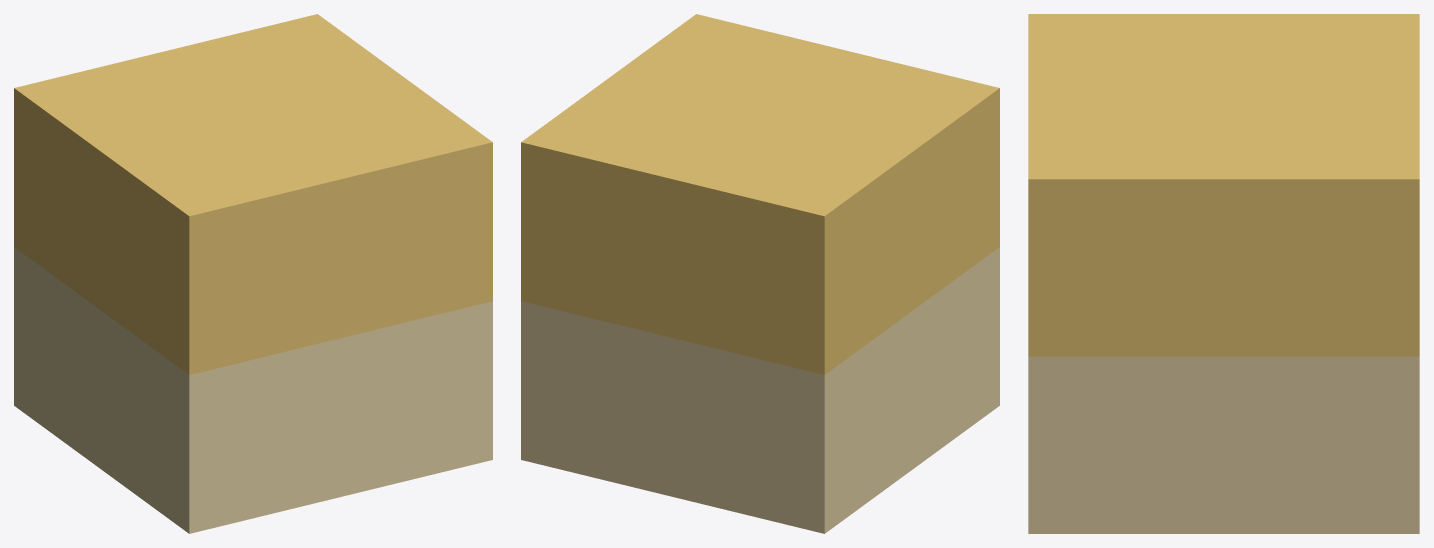
File: GeologischeAbfolgeBeispiel.gltf
3 renders of one model, left to right at view 1: azimuth 30°, elevation 25°; view 2: azimuth 150°, elevation 25°; view 3: azimuth 270°, elevation 25°, orthographic. The views are drawn at different scales.
Visible parts, largest first — view 1: Cube; view 2: Cube; view 3: Cube.
Boxes of the visible parts, x1=… form: Cube: x1=14, y1=14, x2=492, y2=533; Cube: x1=521, y1=14, x2=999, y2=533; Cube: x1=1028, y1=14, x2=1419, y2=533.
Size of the model in its own units: 2 by 2 by 2.
